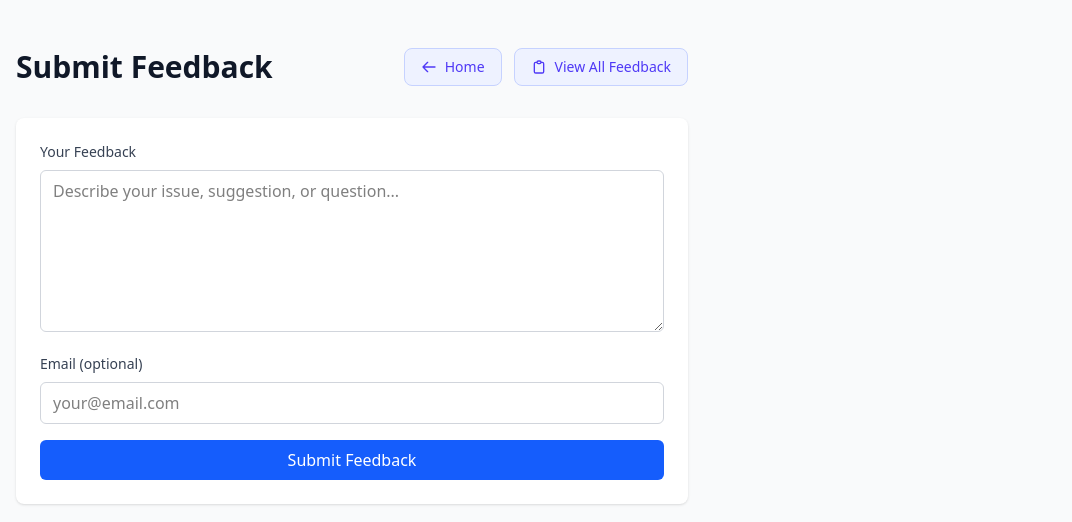
Test: SubmitFeedback Page › should handle submission error
Type "This is my feedback" into the text box labelled "Your Feedback" at x=352, y=251, box top-left (40, 170), bottom-right (664, 332)
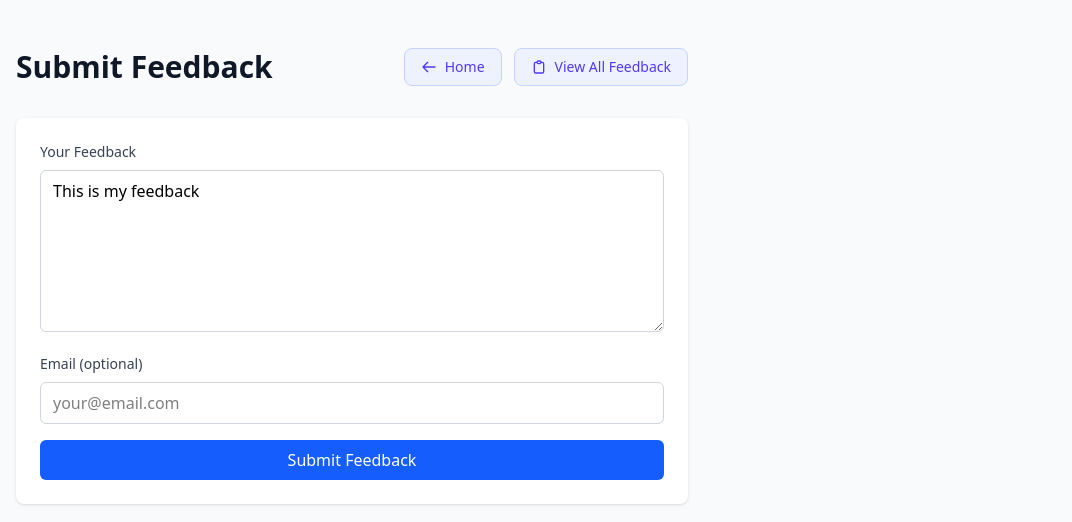
Click the button "Submit Feedback" at x=352, y=460, box top-left (40, 440), bottom-right (664, 480)
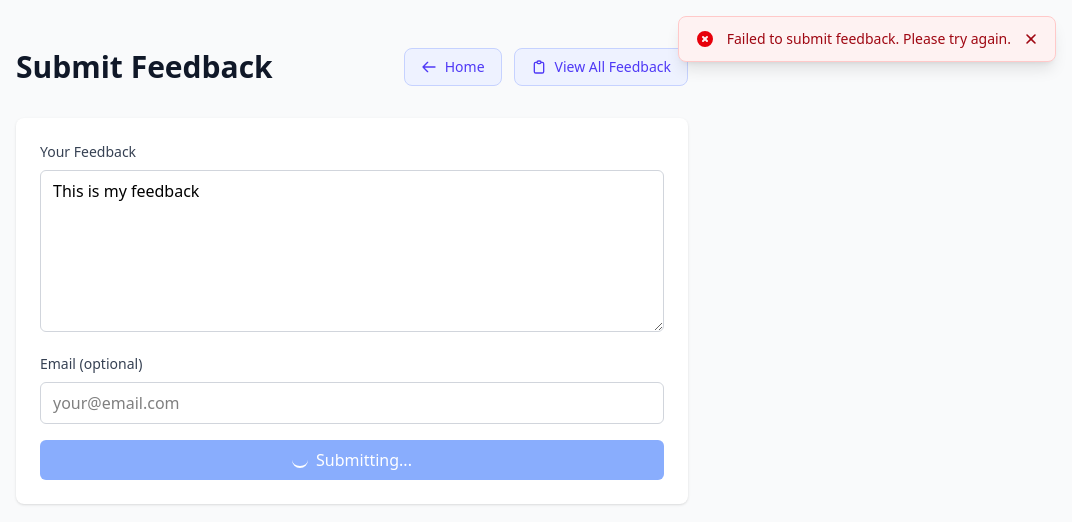
expect the text "Failed to submit feedback. Please try again." is shown: met, box top-left (727, 29), bottom-right (1011, 49)
